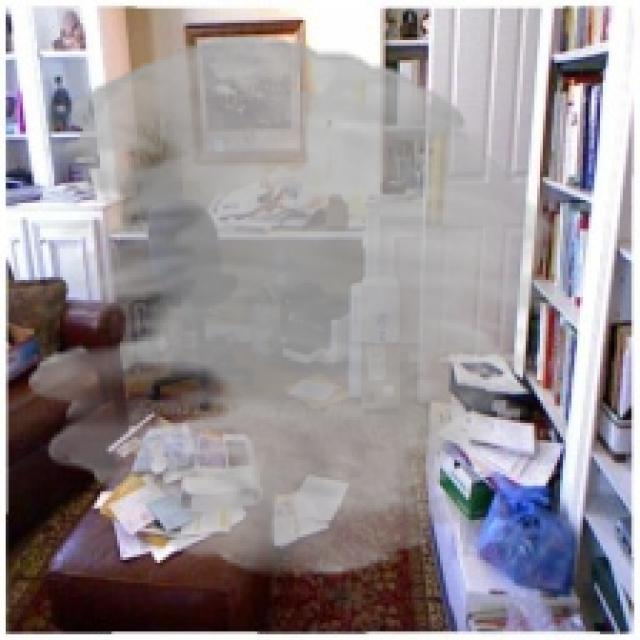smoke: (28, 37, 563, 577)
